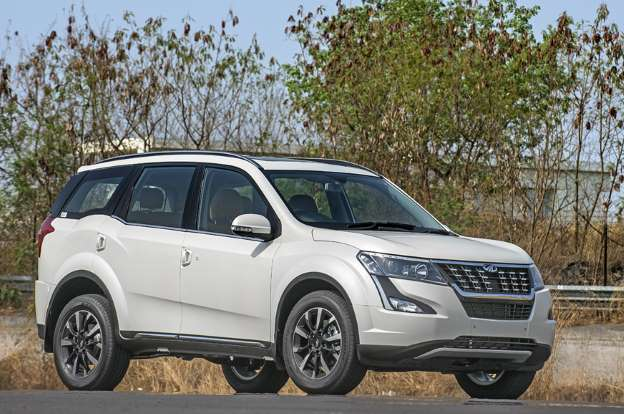car: (38, 147, 558, 398)
